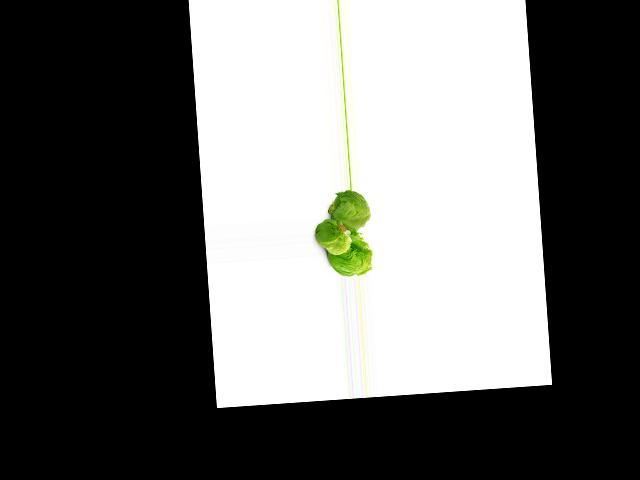lettuce: (329, 236, 371, 275)
